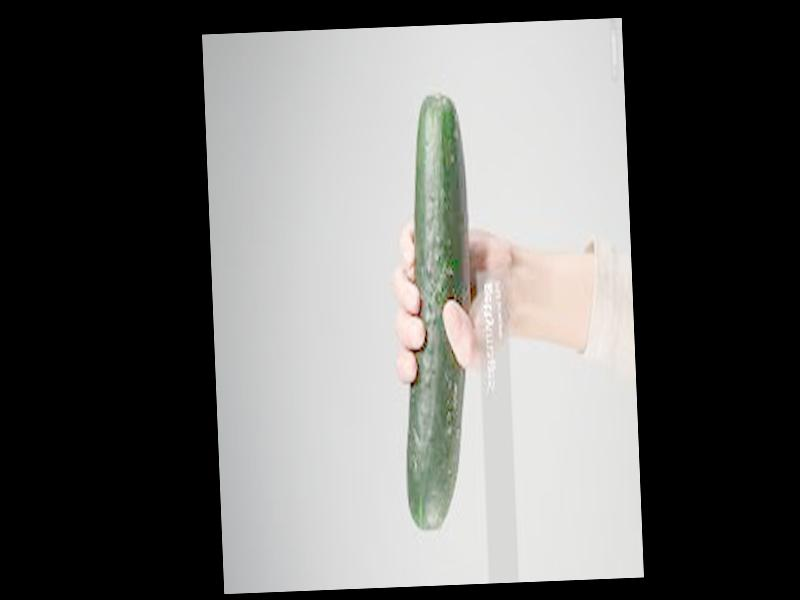Cucumber: (391, 100, 479, 531)
